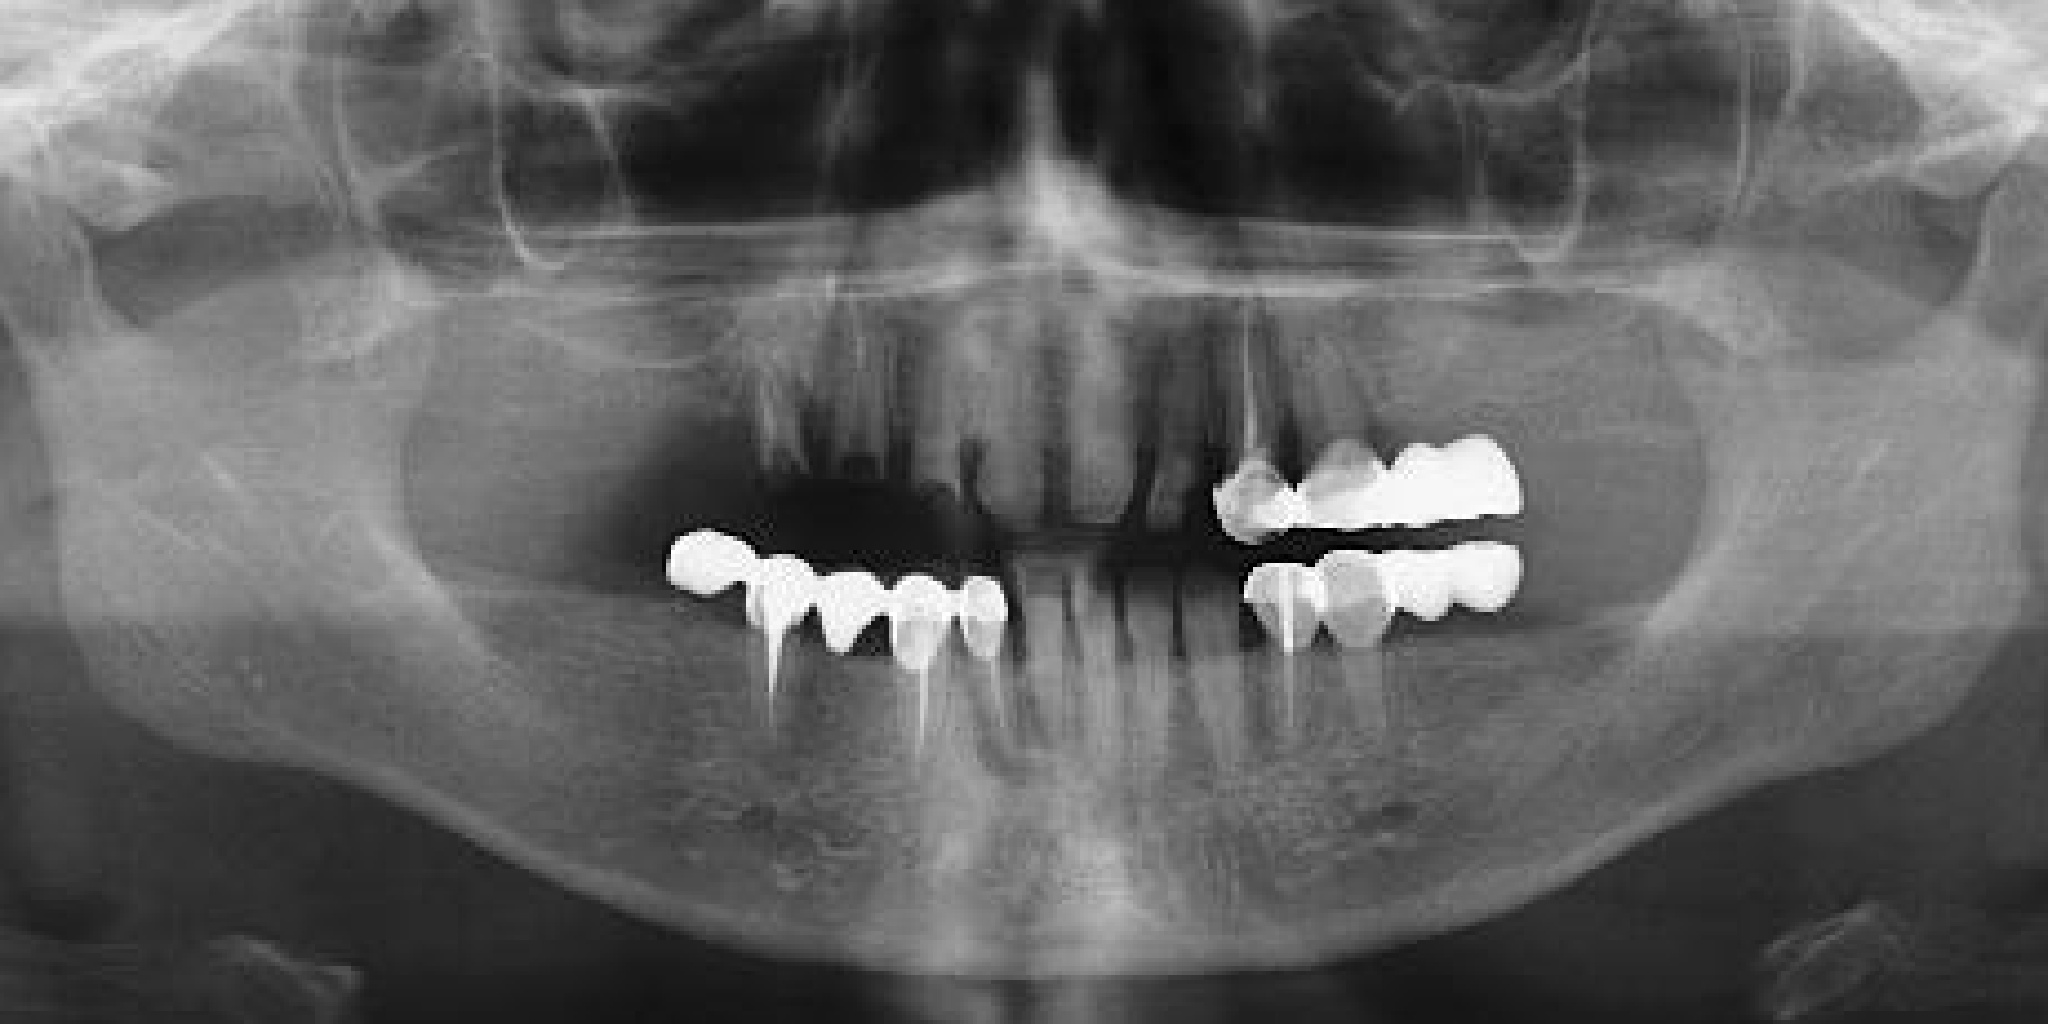Tooth: (1253, 287, 1394, 549), (1186, 276, 1301, 552), (1300, 538, 1424, 763), (1041, 280, 1149, 536), (1138, 276, 1236, 538), (936, 542, 1048, 769), (968, 281, 1059, 532), (808, 272, 909, 492), (733, 525, 825, 755), (1173, 541, 1260, 772), (872, 552, 957, 785), (1003, 538, 1089, 758), (1064, 541, 1138, 776), (1243, 556, 1330, 755), (1117, 546, 1192, 763), (903, 315, 987, 505), (742, 304, 812, 485)
